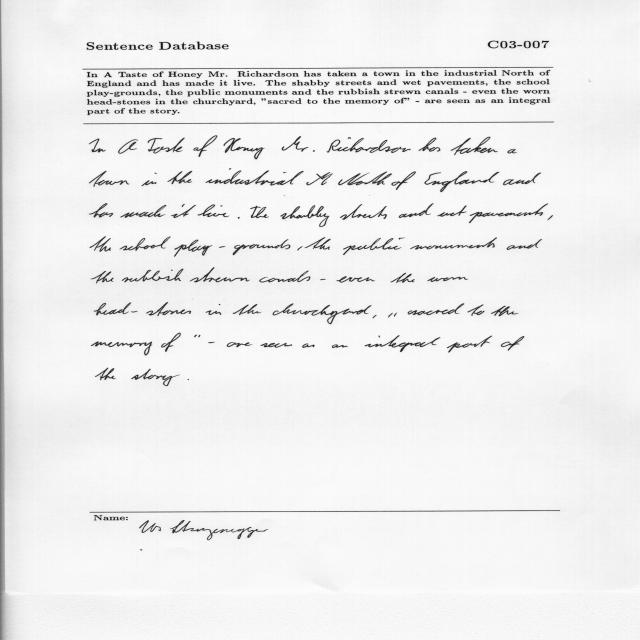word: (205, 169, 333, 186), (273, 304, 372, 325), (174, 240, 290, 257), (424, 171, 499, 192), (469, 204, 548, 223), (94, 302, 191, 316), (327, 137, 411, 153), (365, 335, 441, 352), (280, 205, 330, 227), (343, 238, 405, 255), (410, 238, 497, 250), (189, 268, 250, 283), (224, 138, 265, 159), (451, 137, 498, 155), (131, 369, 180, 386), (122, 269, 183, 282), (92, 342, 153, 355), (120, 236, 171, 251), (447, 336, 492, 353), (340, 204, 387, 220), (338, 172, 392, 185), (408, 304, 464, 316), (90, 171, 130, 187), (121, 205, 167, 218), (260, 271, 311, 282), (148, 138, 185, 153), (282, 136, 315, 152), (193, 136, 218, 157), (399, 203, 434, 218), (391, 171, 416, 190), (503, 173, 541, 185), (506, 239, 542, 250), (161, 333, 181, 352), (198, 205, 229, 217), (171, 204, 196, 218), (501, 336, 524, 351), (305, 237, 331, 250), (89, 204, 113, 218), (90, 236, 111, 252), (437, 206, 467, 217), (168, 171, 193, 184), (419, 138, 441, 152), (233, 304, 261, 315), (118, 139, 138, 154), (91, 271, 114, 283), (491, 306, 518, 316), (337, 276, 375, 283), (95, 368, 116, 380), (390, 273, 415, 283), (89, 139, 106, 153), (250, 206, 269, 218), (468, 304, 485, 316), (428, 277, 468, 282), (142, 173, 157, 186), (206, 304, 221, 315), (261, 343, 293, 348), (227, 343, 253, 348), (302, 343, 315, 348), (332, 345, 347, 349), (388, 313, 397, 318), (507, 149, 517, 153), (548, 215, 553, 220), (298, 247, 303, 251), (194, 335, 200, 337), (373, 315, 376, 318), (208, 342, 215, 343), (320, 279, 325, 280), (238, 217, 240, 219), (187, 379, 189, 380)
